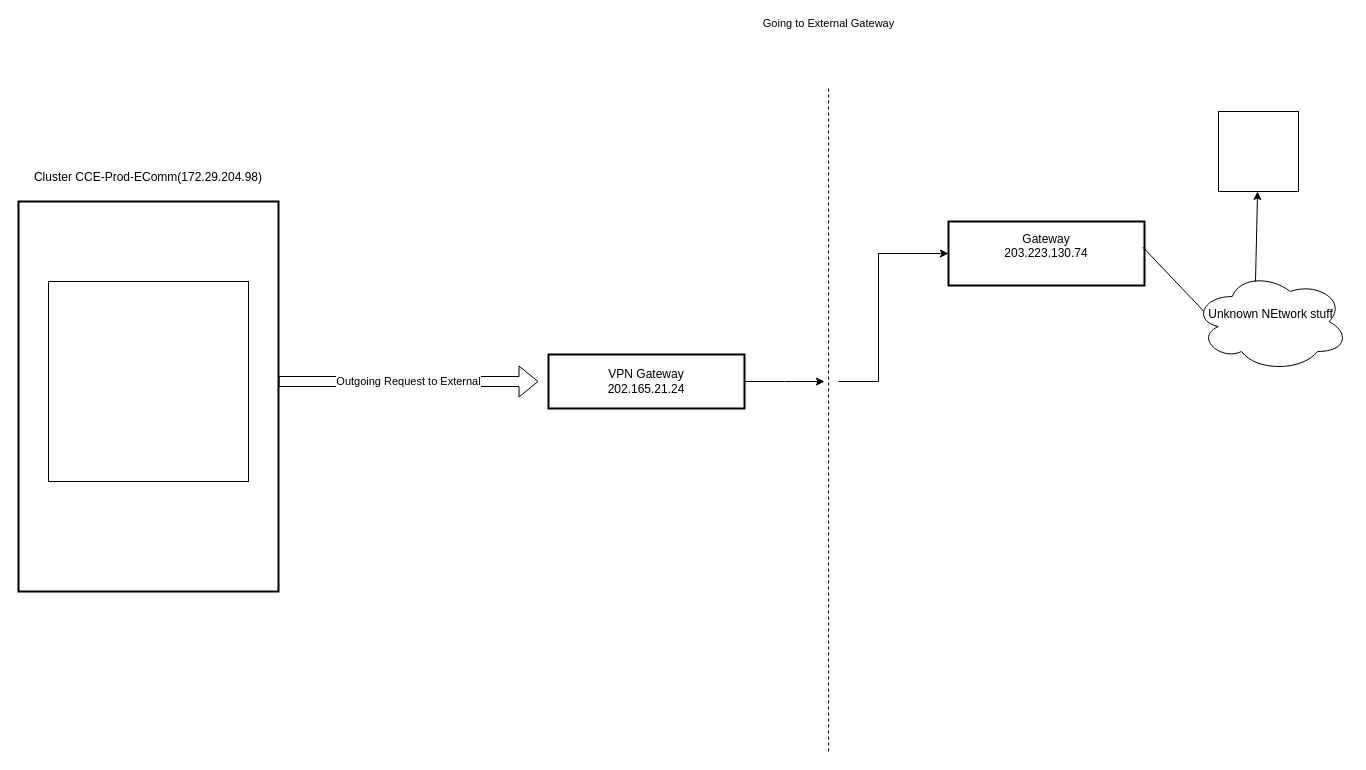
Image size: 1366x770. Some labels were removed from this diagram. Each missing label, with the box of its shape:
Kubernetes Pod 172.21.0.51: (48, 280, 248, 482)
Safewatch Server (10.10.43.18): (1218, 110, 1298, 192)
